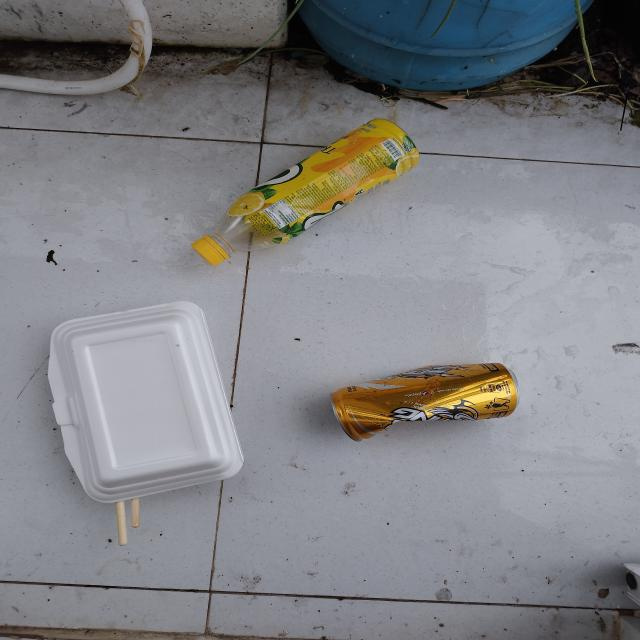bottle: (192, 118, 421, 266)
can: (330, 362, 522, 442)
foam box: (48, 301, 245, 504)
